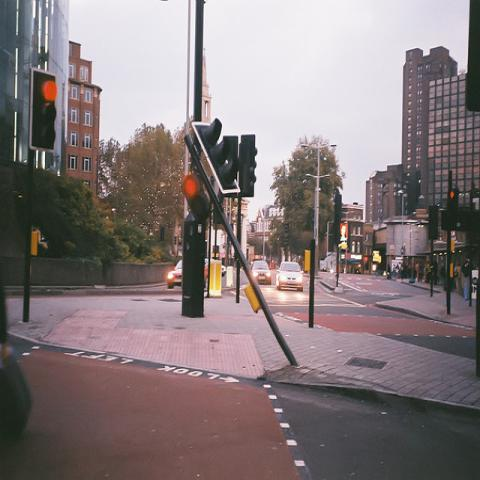car: (276, 261, 304, 292), (252, 260, 272, 286), (166, 260, 182, 290), (221, 265, 226, 277)
